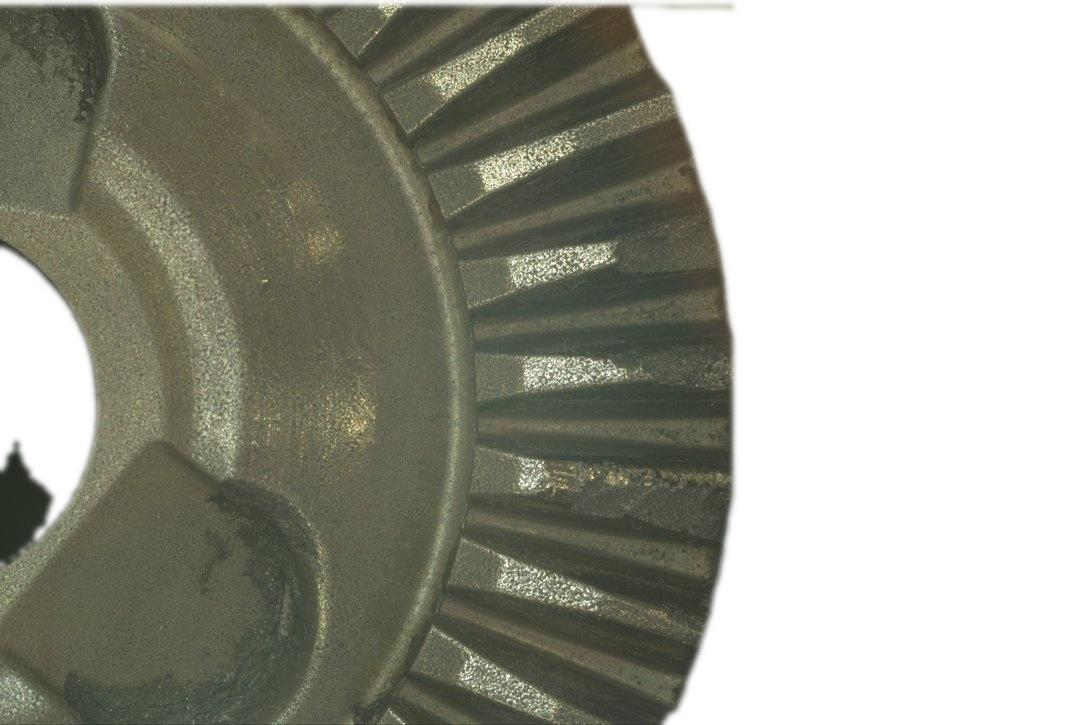defect: (511, 462, 728, 538), (616, 218, 716, 273), (611, 346, 731, 390), (664, 611, 705, 632)
